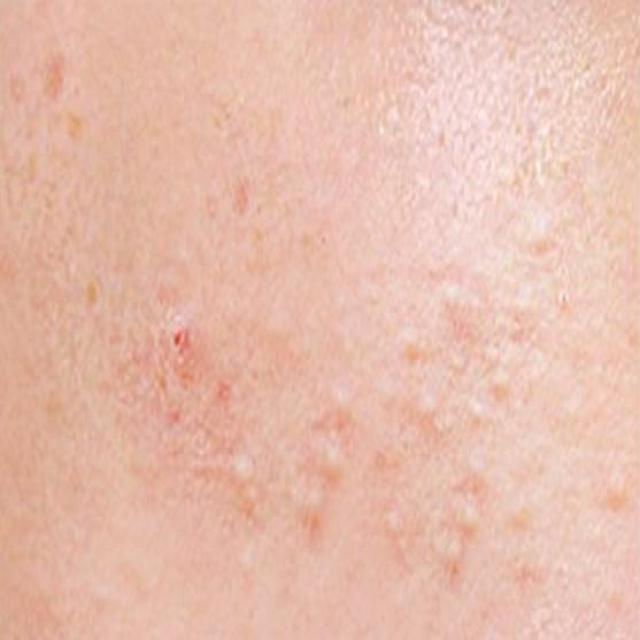comedone: (300, 438, 362, 593), (220, 434, 258, 601), (433, 442, 477, 576)
